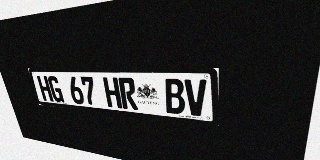6: (67, 76, 85, 105)
7: (79, 77, 98, 106)
B: (163, 78, 185, 115)
G: (47, 76, 64, 103)
H: (102, 77, 122, 108), (36, 76, 54, 102)
R: (118, 77, 138, 110)
V: (184, 79, 207, 117)
